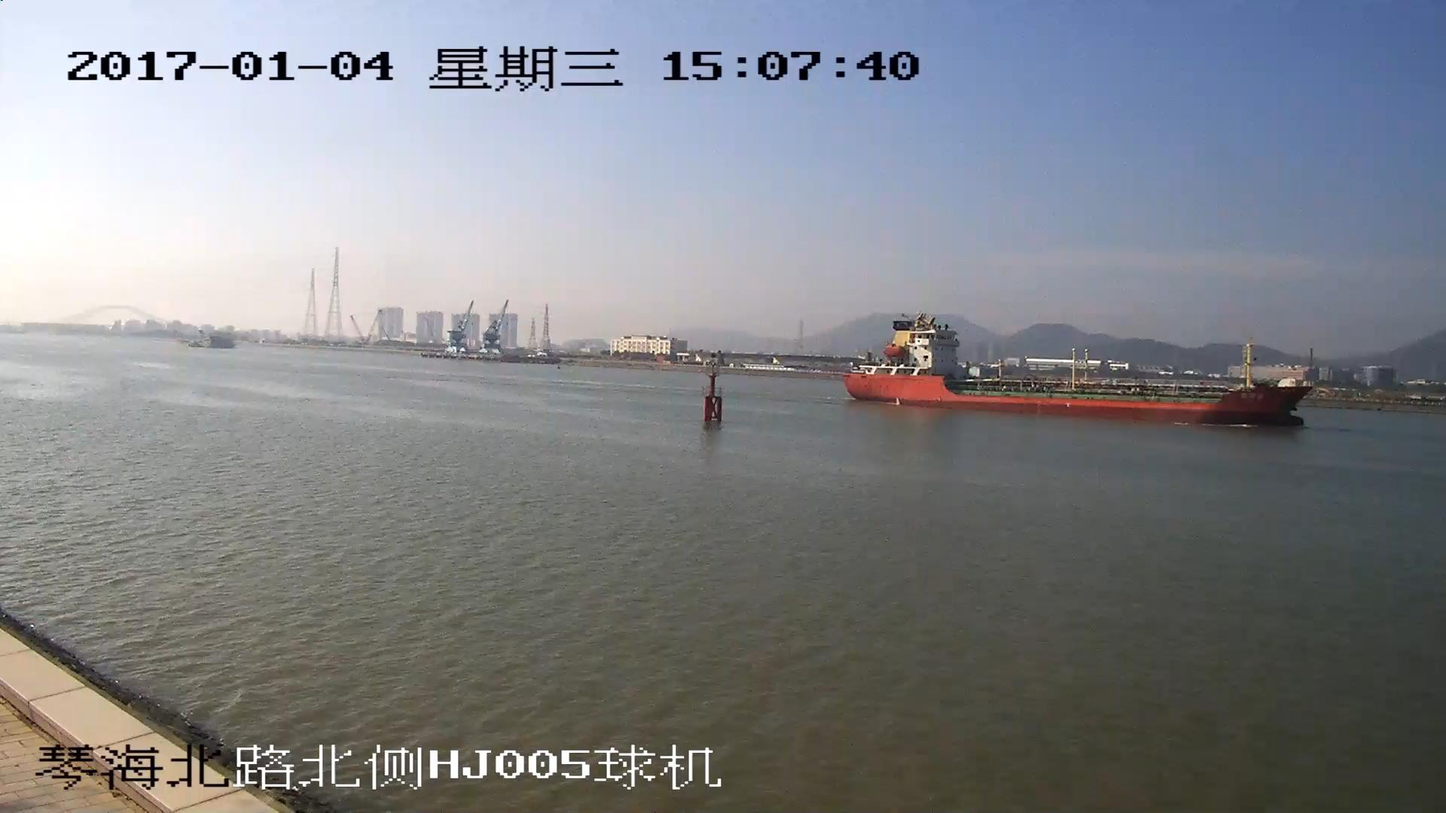general cargo ship: (840, 317, 1304, 428)
